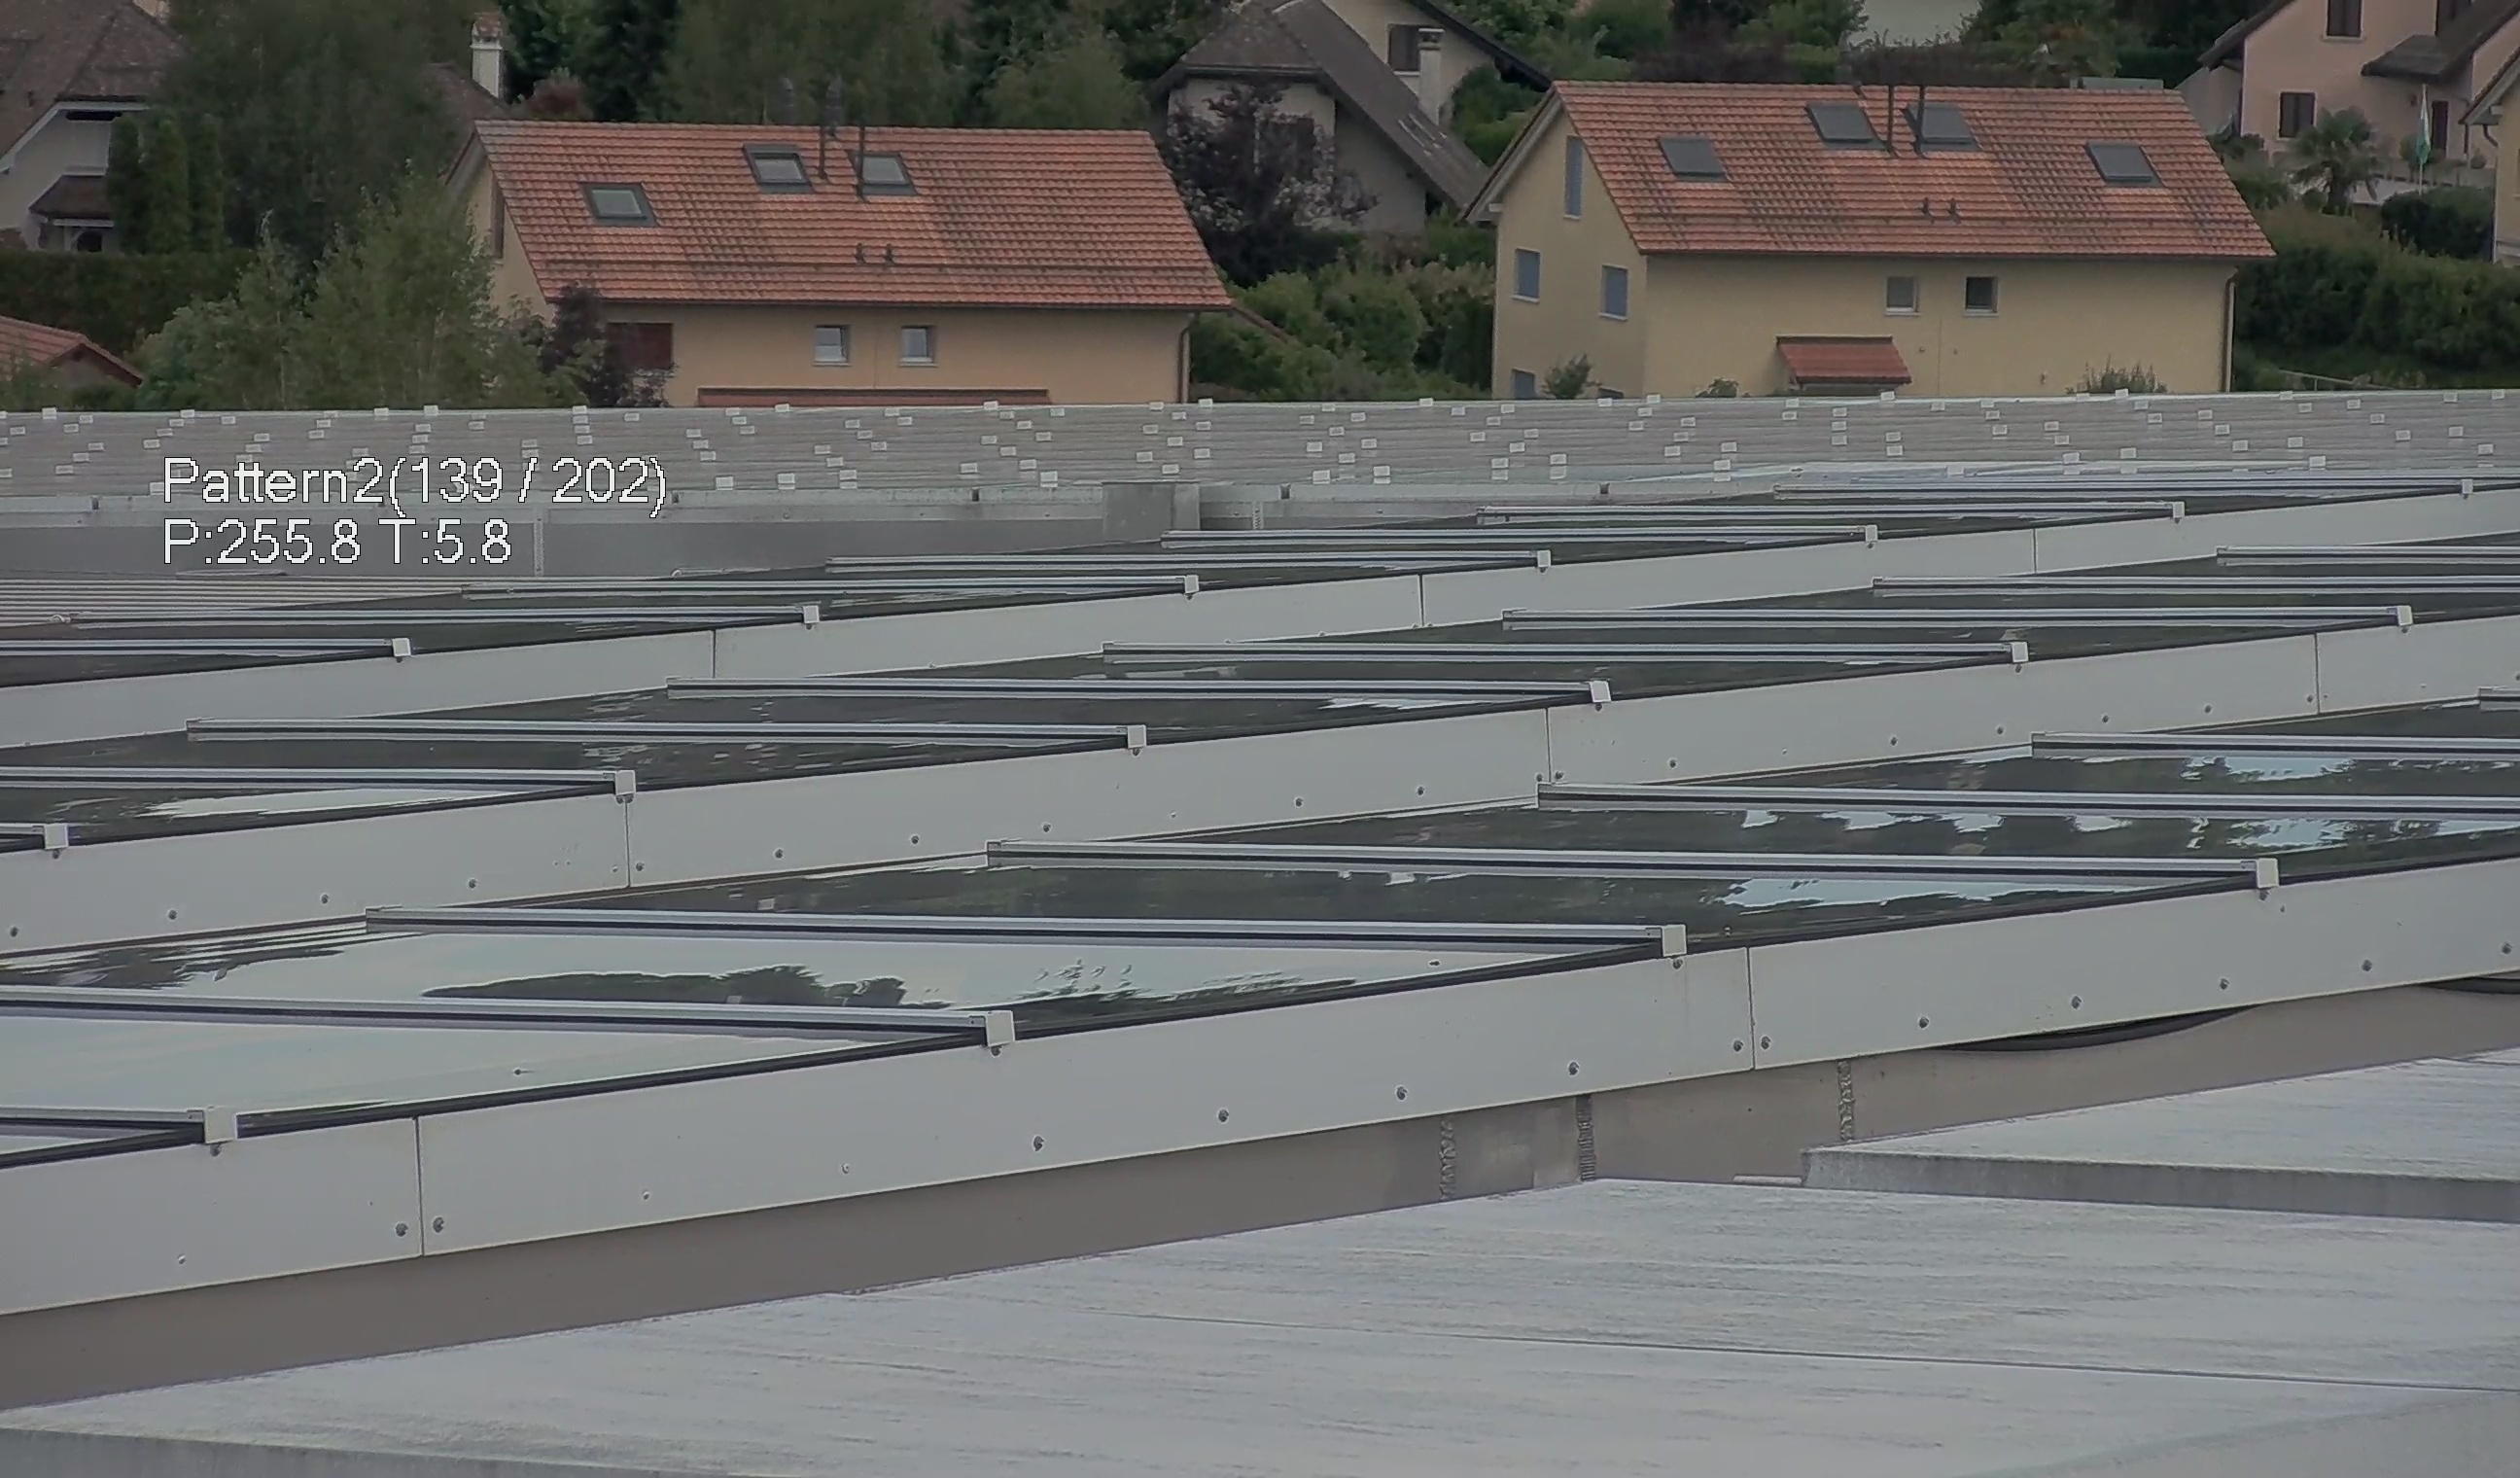Other: (11, 301, 158, 410)
